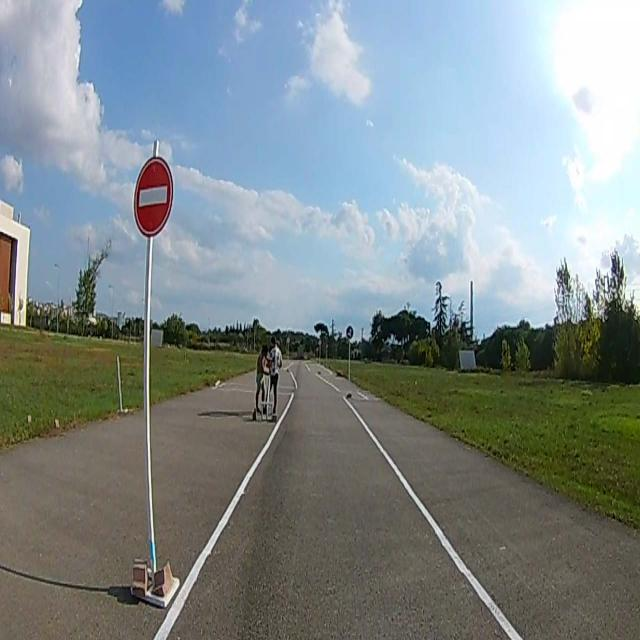girisyok: (134, 160, 172, 235)
